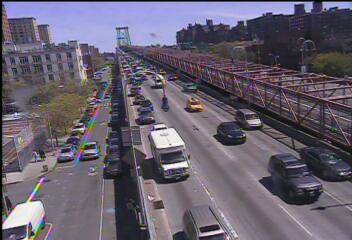neg: (132, 117, 180, 181), (106, 17, 145, 69), (48, 139, 81, 183), (269, 156, 302, 200), (286, 34, 317, 76), (239, 105, 263, 137), (14, 56, 35, 83), (81, 73, 100, 98), (189, 95, 203, 115)
pos: (29, 150, 39, 164)
